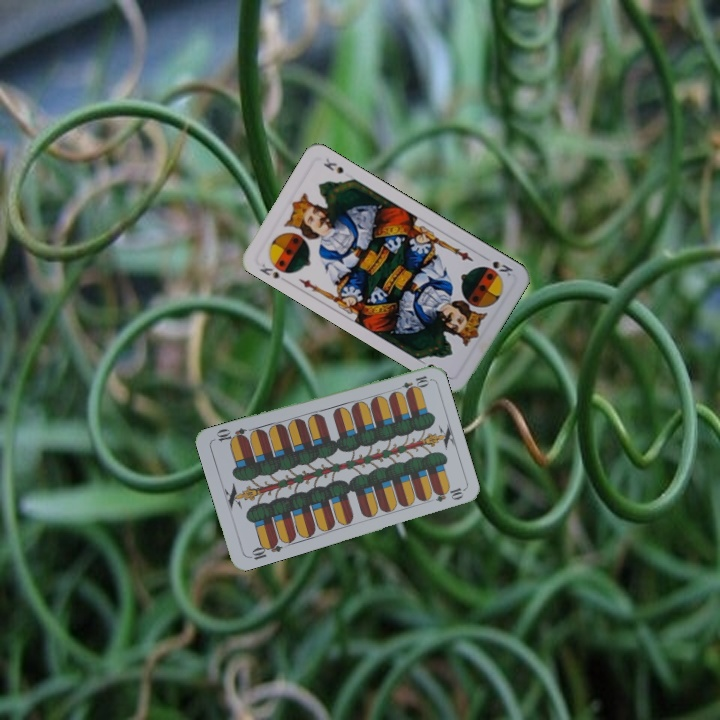E10: (245, 536, 285, 562), (391, 371, 431, 394)
SK: (479, 252, 516, 279), (255, 260, 283, 282)
